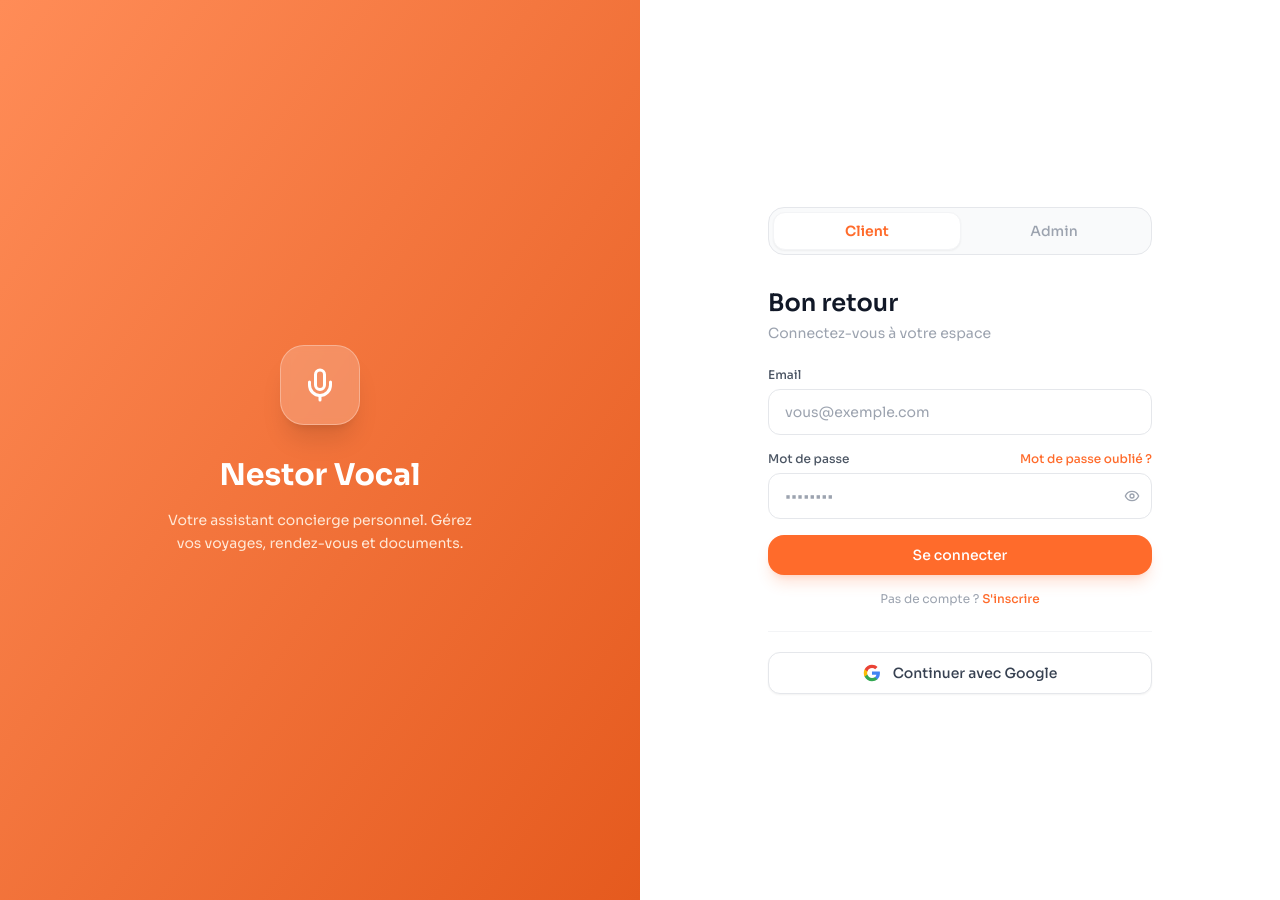
Test: LoginPage › affiche le message renvoyé par l'API si les identifiants sont invalides
Type "elie@example.com" into the field with placeholder "vous@exemple.com".
click(960, 412); type("elie@example.com")  # box [768,388,1152,434]
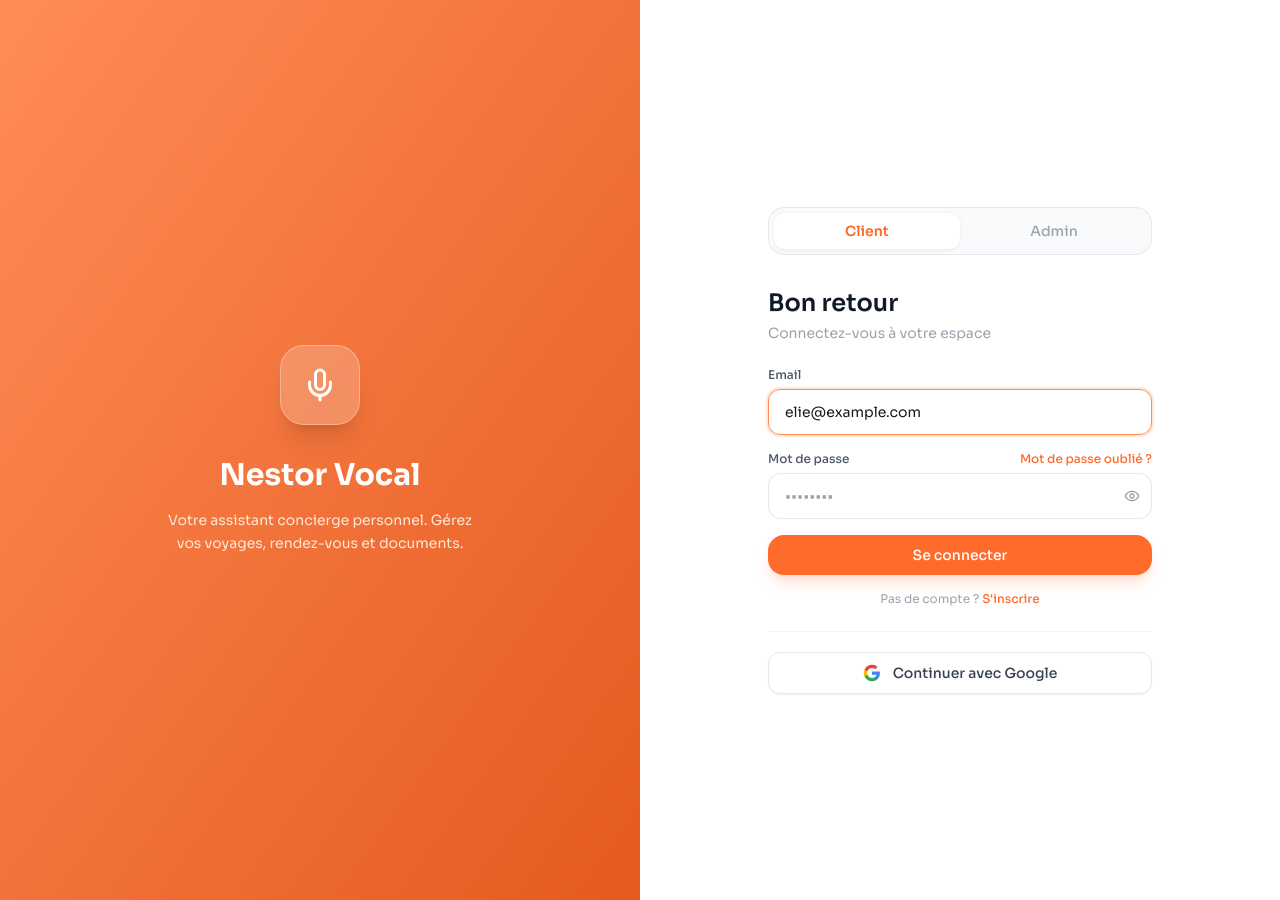
Type "MotDePasse123!" into the password field with placeholder "••••••••".
click(960, 496); type("MotDePasse123!")  # box [768,472,1152,518]
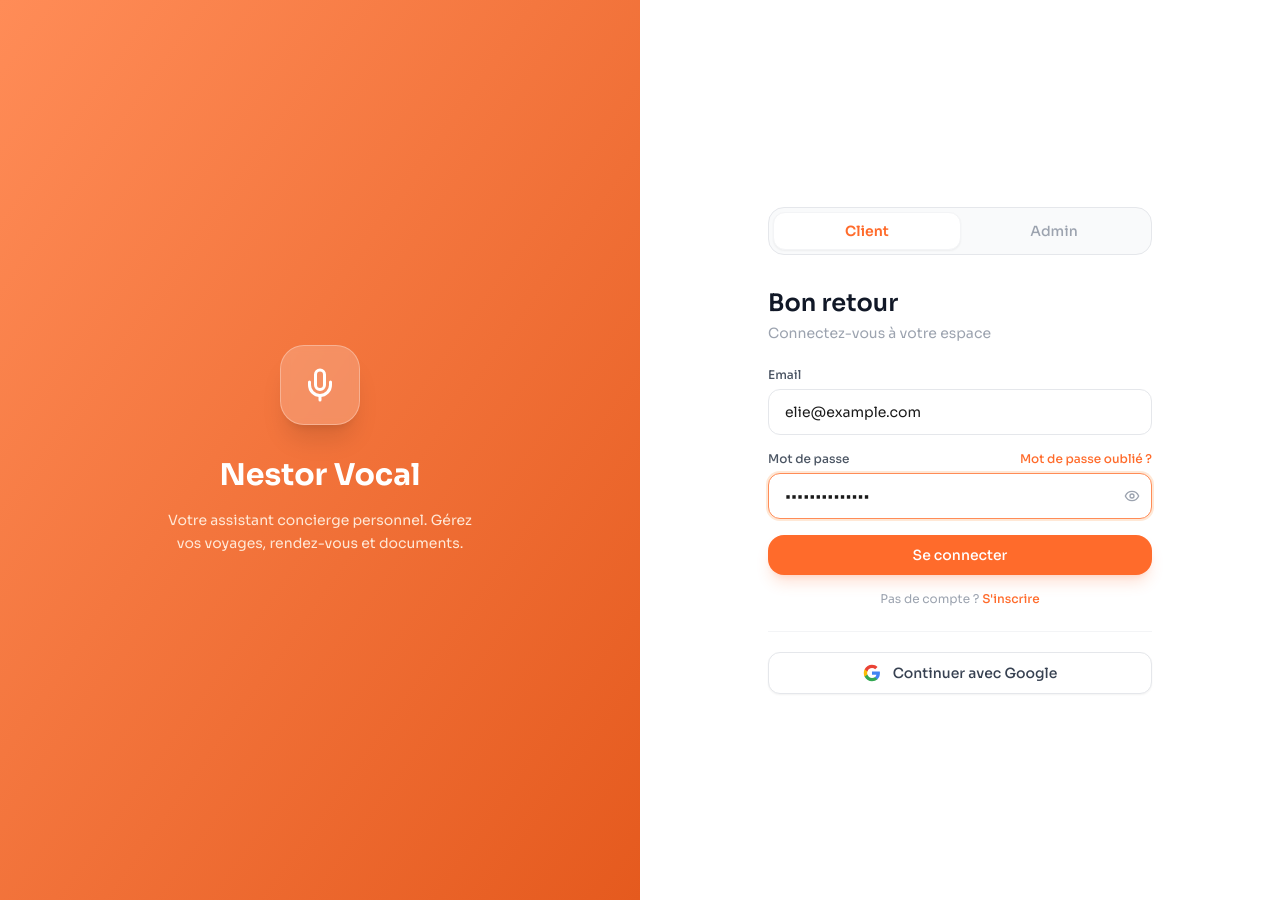
Click the button "Se connecter".
click(960, 554)  # box [768,534,1152,574]
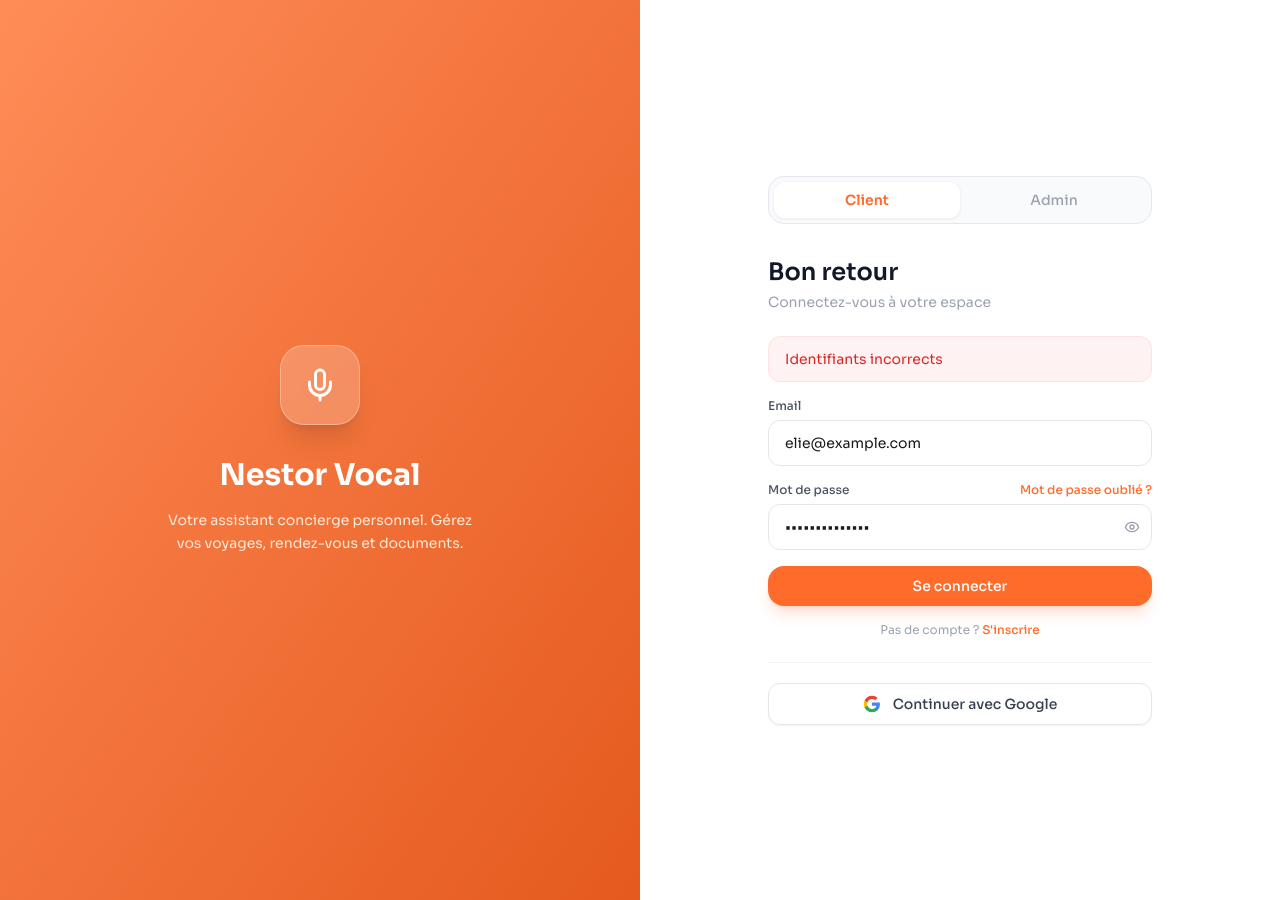
expect the text "Identifiants incorrects" is shown: met, box [768,336,1152,382]
